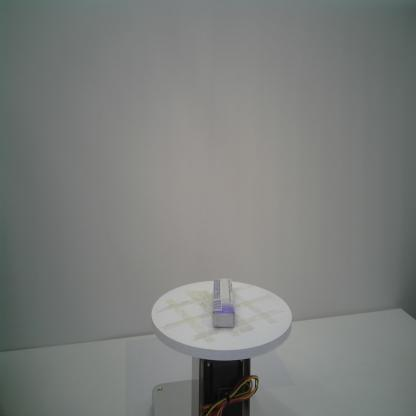Candy: (212, 277, 235, 329)
